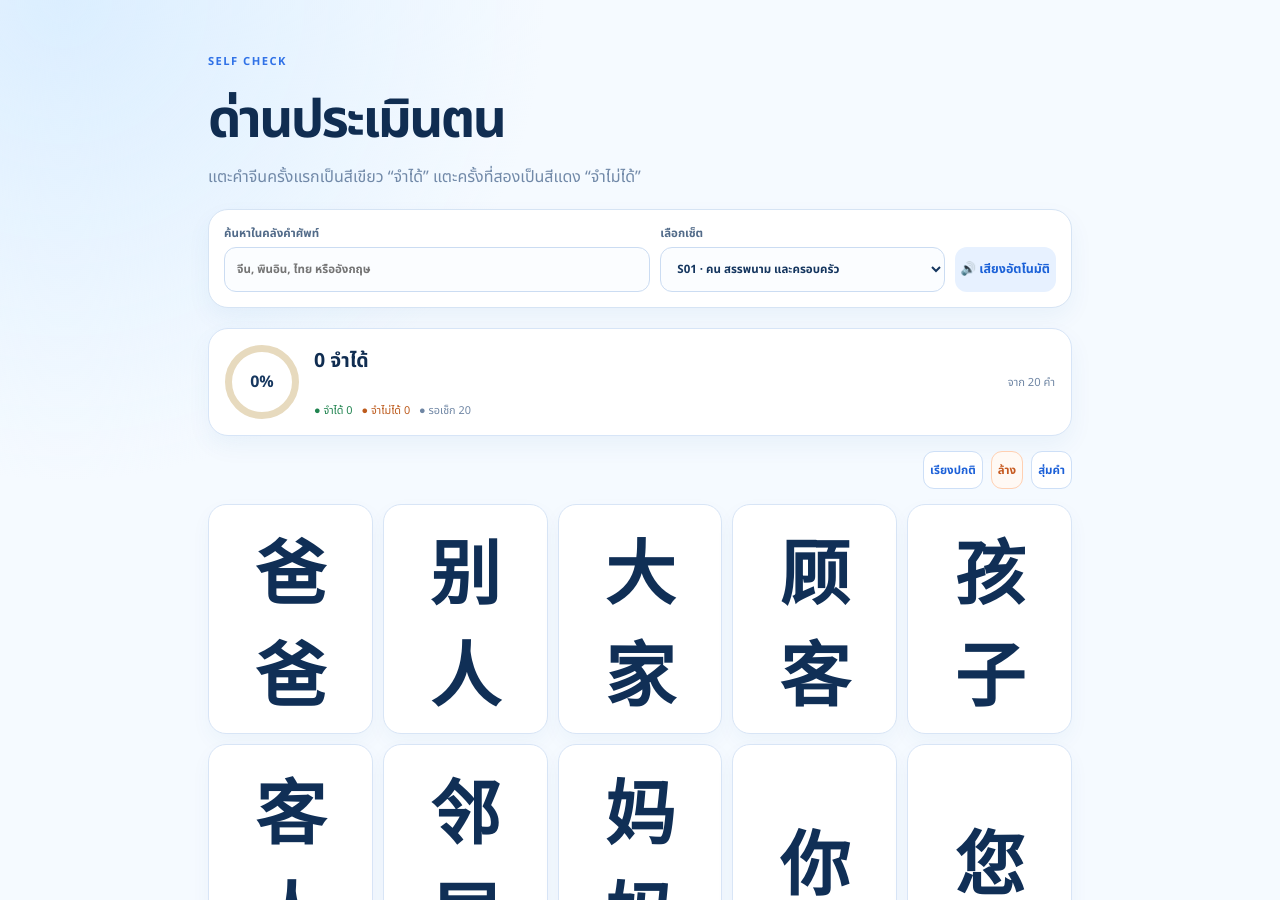
Test: clears the assessment results for the selected set to start again
Click the button with aria-label "ประเมินคำศัพท์ 爸爸".
click(290, 619)  # box x1=208 y1=504 x2=373 y2=734
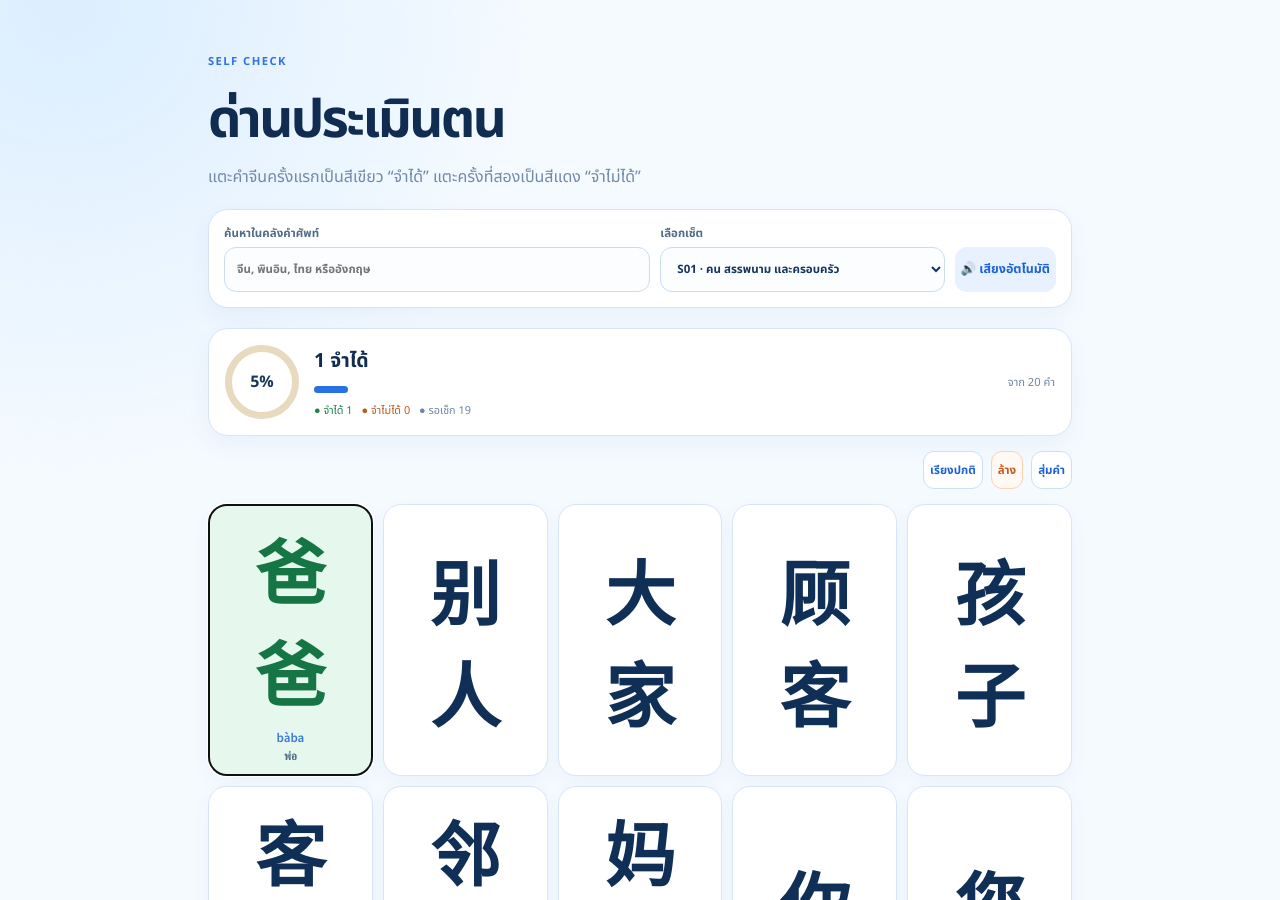
Now the button with aria-label "ประเมินคำศัพท์ 爸爸" has attribute data-status="known", box x1=208 y1=504 x2=373 y2=776
Click the button with aria-label "ล้างผลชุดนี้".
click(1007, 470)  # box x1=991 y1=451 x2=1023 y2=489
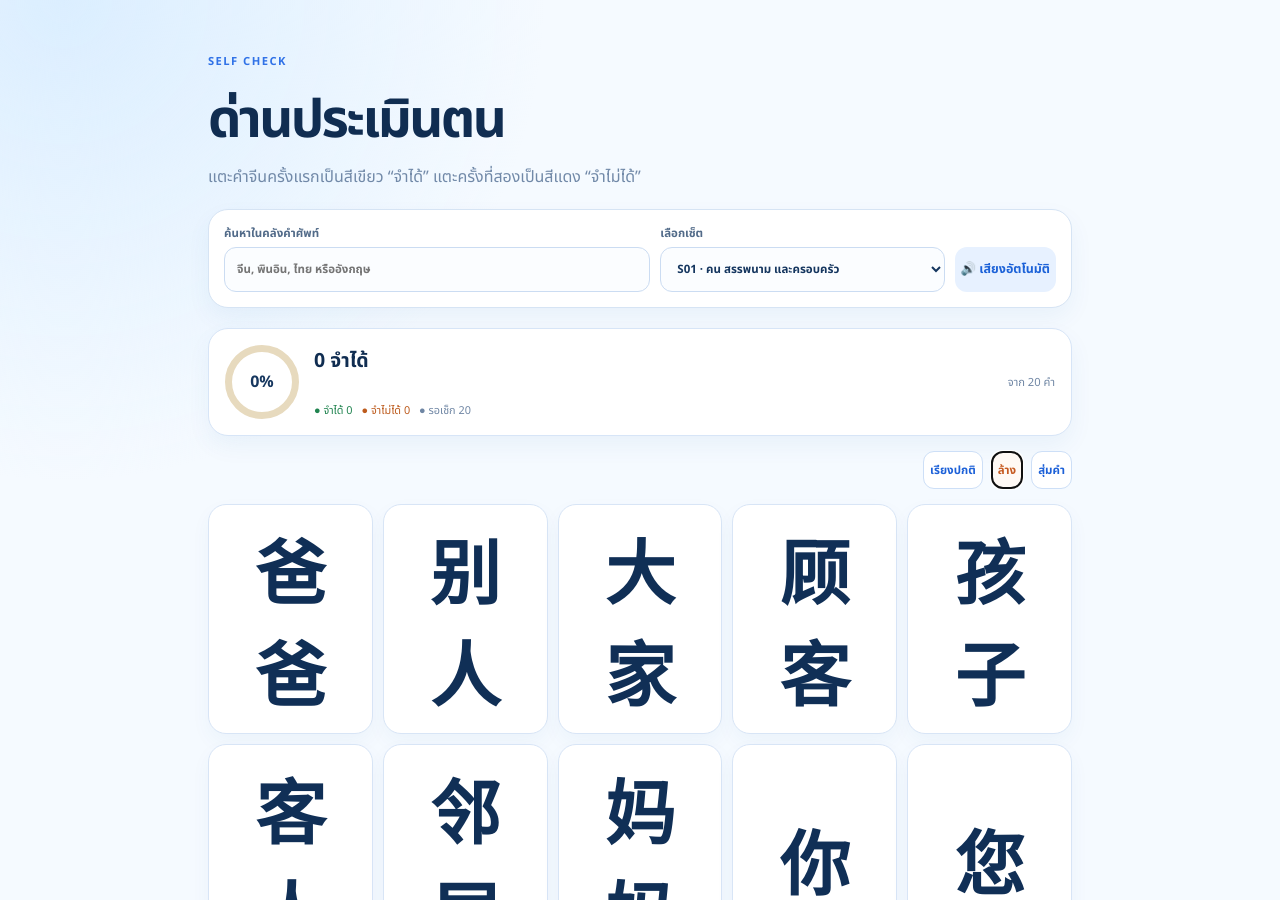
Now the button with aria-label "ประเมินคำศัพท์ 爸爸" no longer shows "bàba", box x1=208 y1=504 x2=373 y2=734
Now the button with aria-label "ประเมินคำศัพท์ 爸爸" no longer shows "พ่อ", box x1=208 y1=504 x2=373 y2=734
Now the text "0 จำได้" is shown, box x1=314 y1=346 x2=369 y2=376
